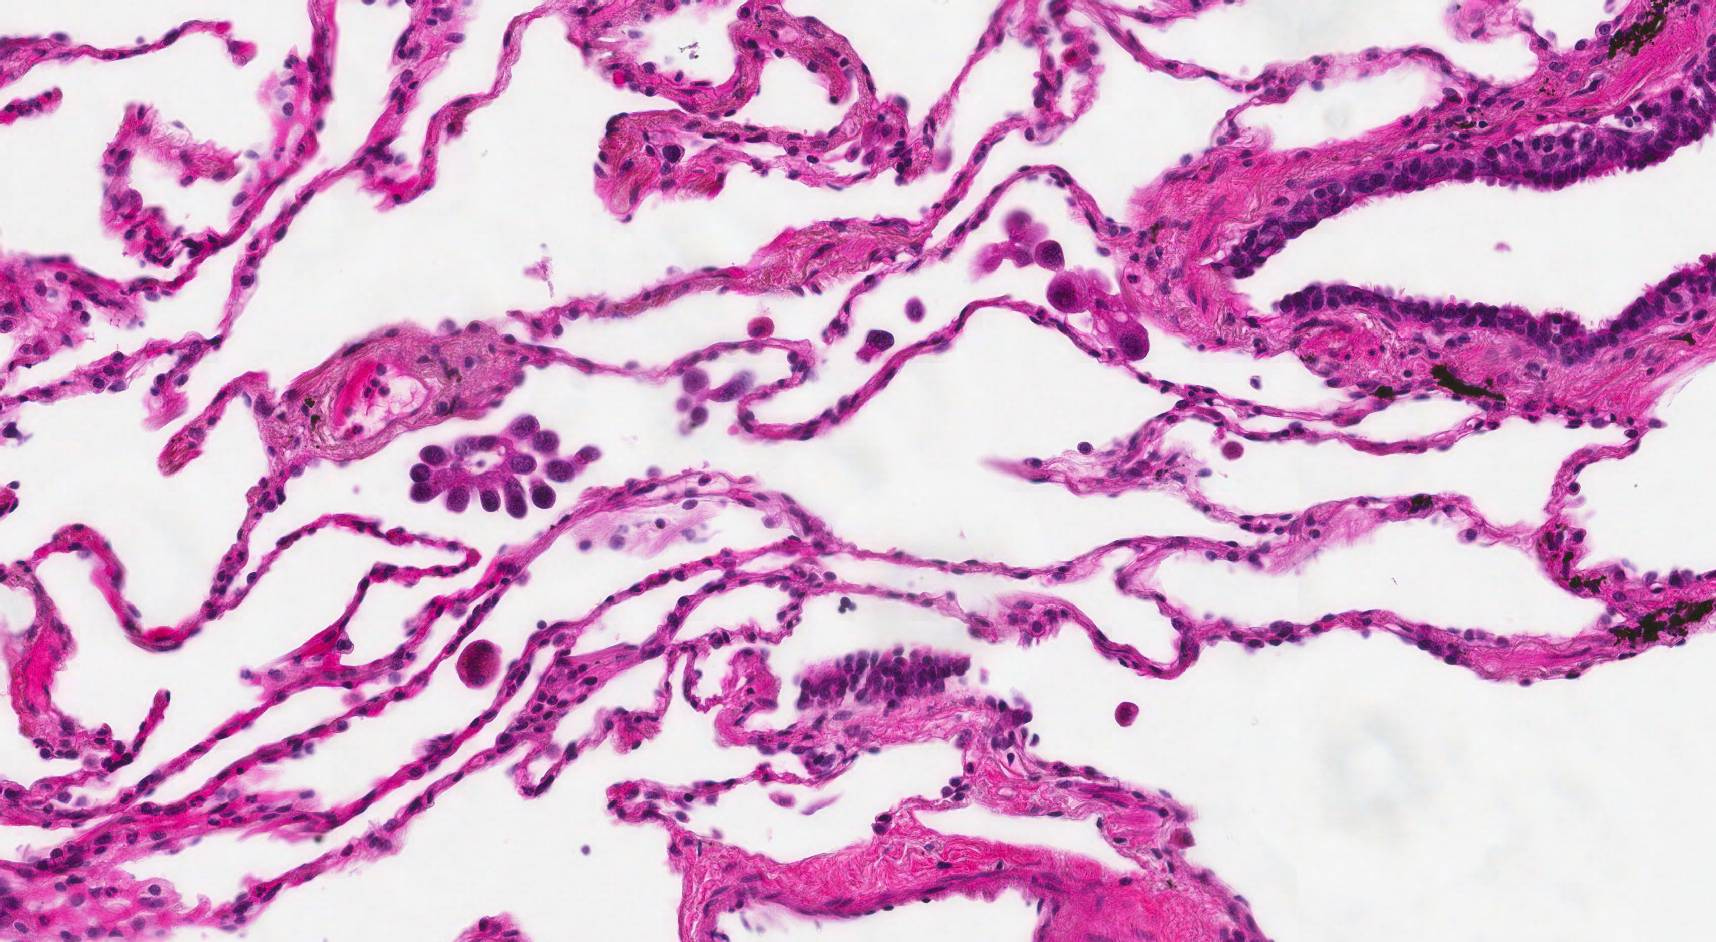stas: (410, 412, 602, 522), (1035, 237, 1150, 360)
